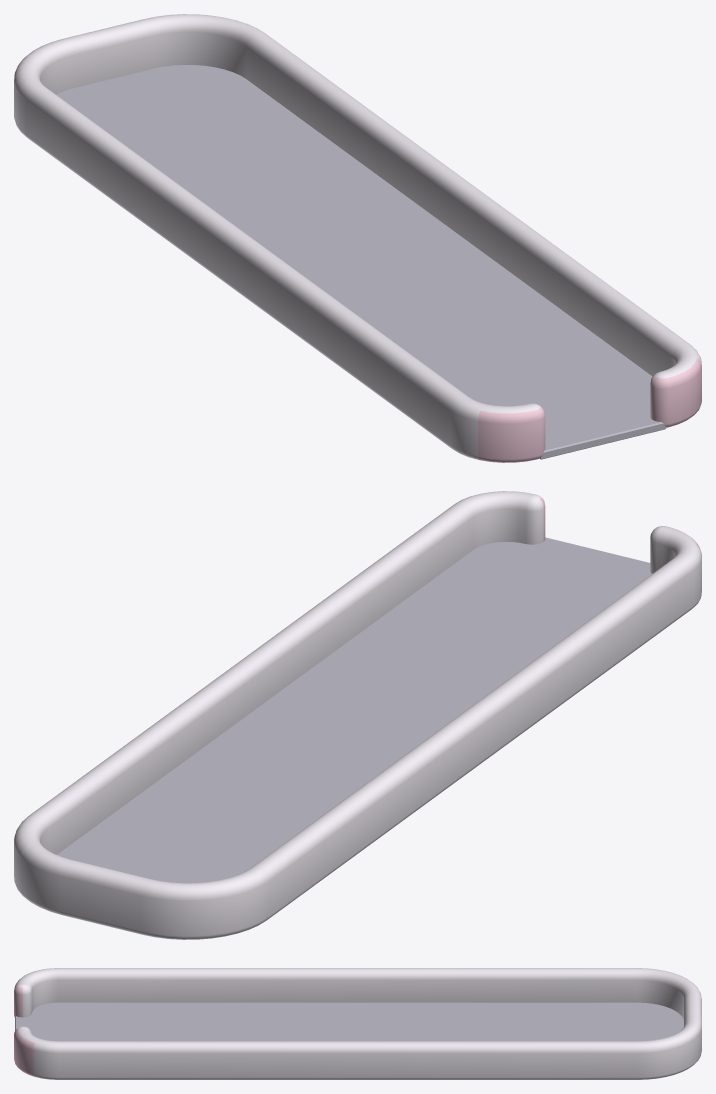
The model's file is mockup-v1-queue-four.fbx.
The picture shows the model from 3 angles, top to bottom: view 1: azimuth 30°, elevation 25°; view 2: azimuth 150°, elevation 25°; view 3: azimuth 270°, elevation 25°; orthographic projection. The views are drawn at different scales.
Visible parts, largest first — view 1: Floor, Rim; view 2: Rim, Floor; view 3: Rim, Floor.
Part boxes in pixels (left/top/right/bottom): Floor: left=56, top=65, right=666, bottom=459; Rim: left=14, top=14, right=701, bottom=462; Rim: left=14, top=491, right=701, bottom=939; Floor: left=57, top=537, right=651, bottom=883; Rim: left=14, top=968, right=701, bottom=1079; Floor: left=15, top=1002, right=683, bottom=1041.
Size of the model in its own units: 1.28 by 0.26 by 4.6.
